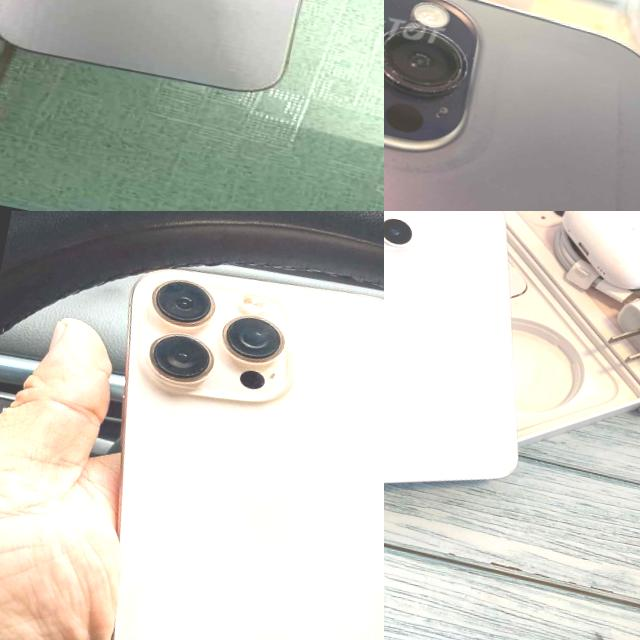scratch: (557, 41, 640, 211), (384, 110, 507, 198)
